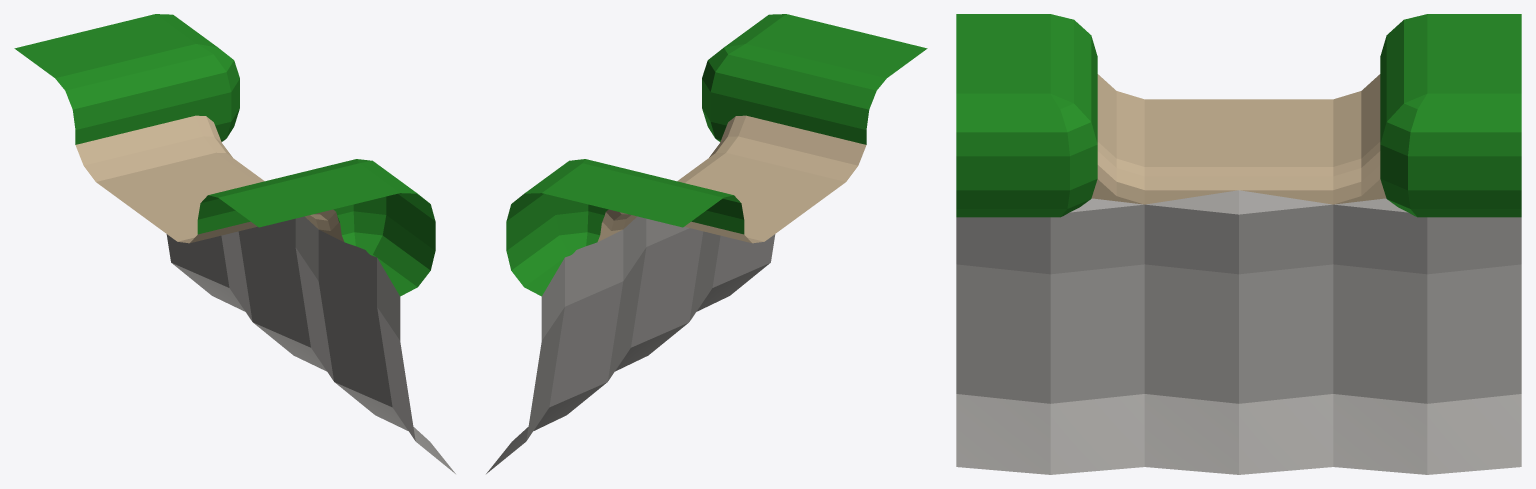
The model's file is Track_Cliff_Edge_Standard_2_Tall_Single.obj.
3 renders of one model, left to right at view 1: azimuth 30°, elevation 25°; view 2: azimuth 150°, elevation 25°; view 3: azimuth 270°, elevation 25°, orthographic. The views are drawn at different scales.
Parts seen in each view (by area): view 1: Grass, Rock, Dirt; view 2: Grass, Rock, Dirt; view 3: Rock, Grass, Dirt.
Part boxes in pixels (x1,y1,x2,y2): Grass: (14, 14, 435, 296); Rock: (166, 216, 455, 473); Dirt: (75, 115, 344, 243); Grass: (506, 14, 927, 296); Rock: (486, 216, 775, 473); Dirt: (597, 115, 866, 243); Rock: (956, 190, 1521, 474); Grass: (956, 14, 1521, 217); Dirt: (1091, 74, 1386, 204).
Bounding box in the file's own units: 1.5 × 2 × 3.
